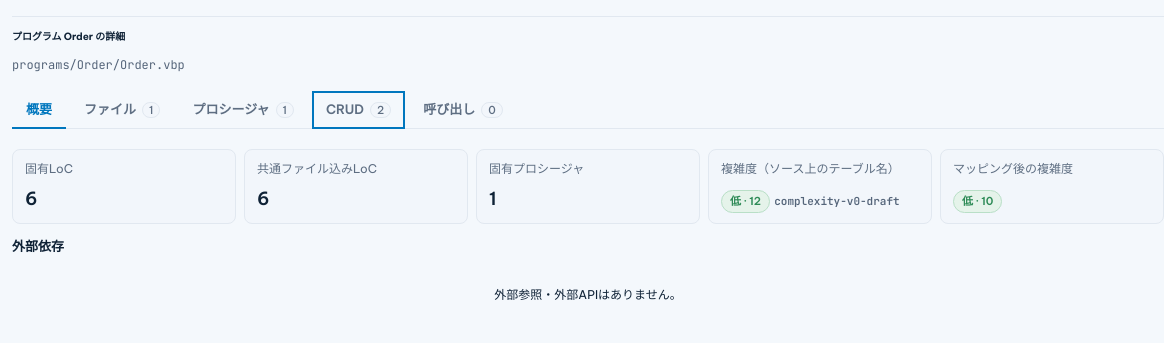
Program detail (F04) › renders the Japanese catalog and keeps the view toggle keyboard reachable
Expected: the heading "プログラム Order の詳細" is shown, [12,30,125,43]
Click the tab "CRUD2": (359, 110) [312,91,405,129]
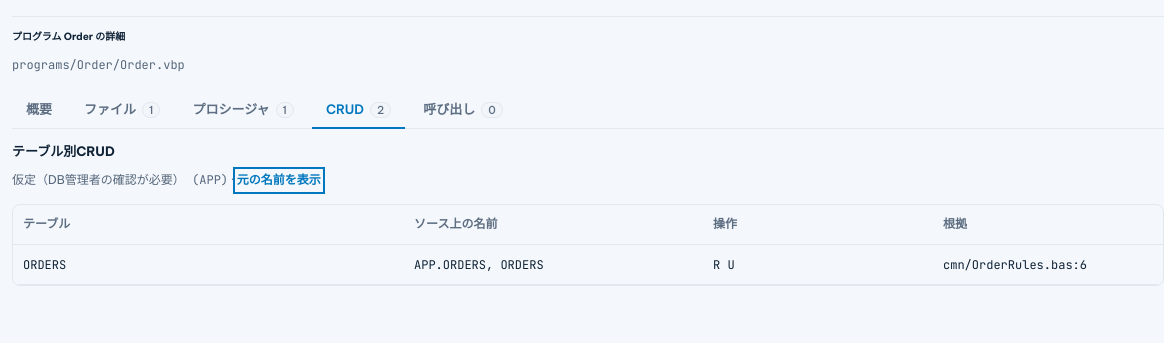
Result: the table with test id "crud-mapped" is shown at [13,205,1163,285]
Click the button "元の名前を表示": (279, 181) [237,171,321,190]
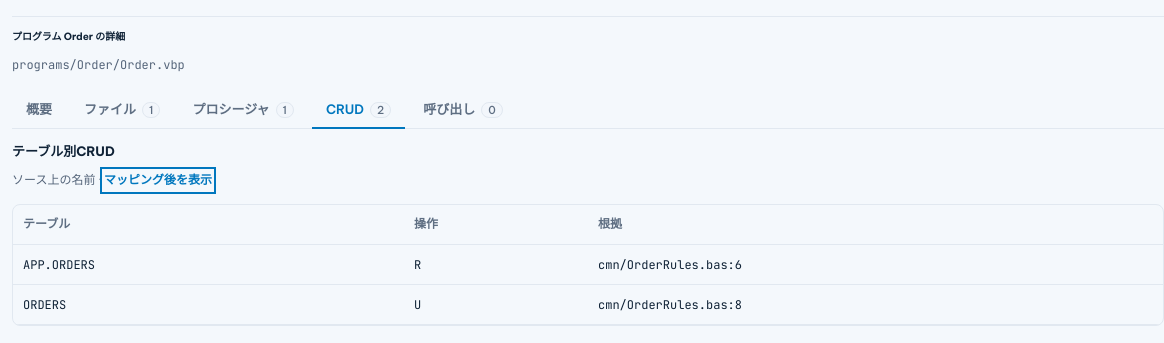
Result: the table with test id "crud-raw" is shown at [13,205,1163,325]
